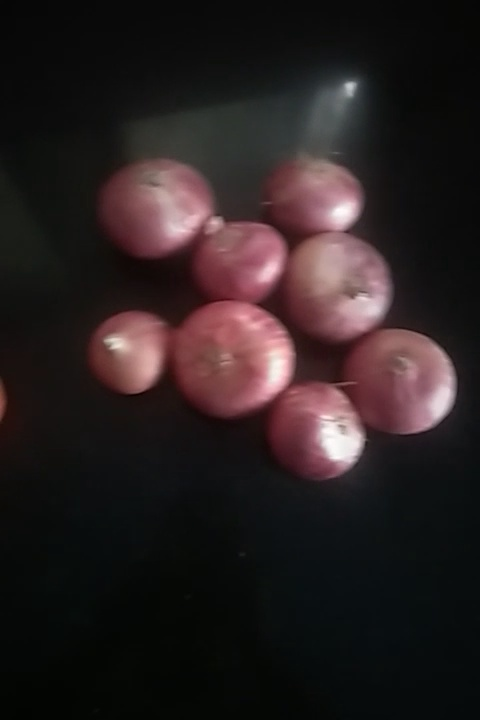onion: (176, 290, 297, 420), (340, 334, 464, 435), (288, 233, 388, 357), (96, 158, 211, 255), (267, 380, 366, 480), (260, 152, 369, 237), (86, 307, 169, 393), (194, 218, 278, 296)
